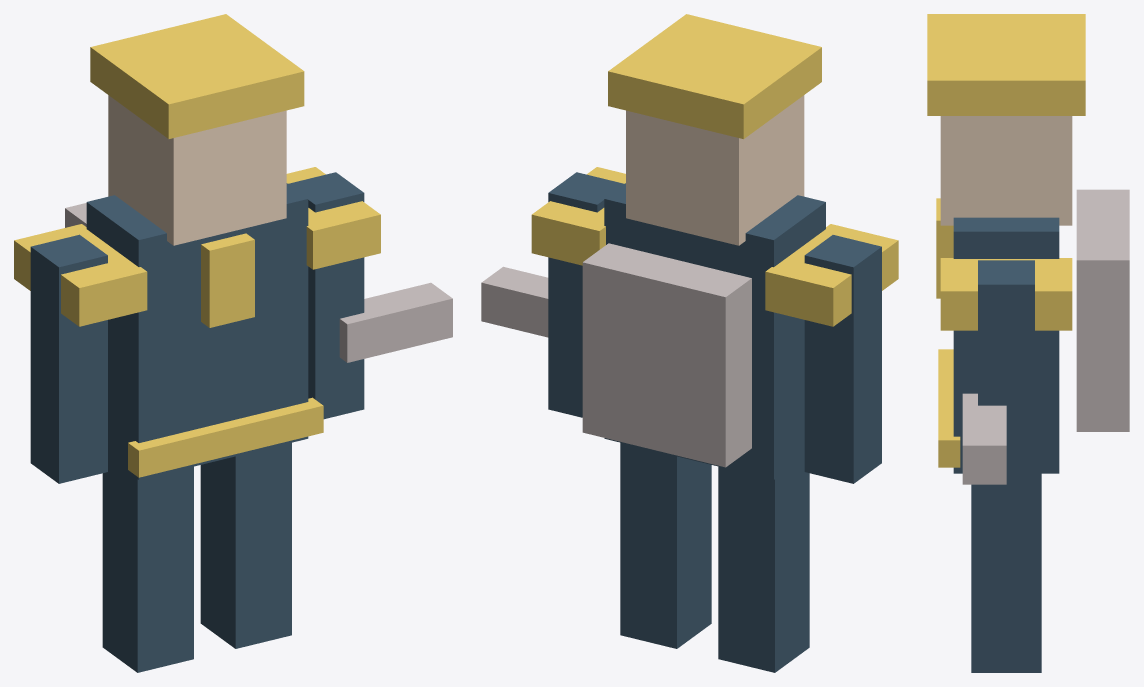
The model's file is 20_vela_spirebound_guide_under_ration.glb.
The picture shows the model from 3 angles, left to right: view 1: azimuth 30°, elevation 25°; view 2: azimuth 150°, elevation 25°; view 3: azimuth 270°, elevation 25°; orthographic projection.
Visible parts, largest first — view 1: Vela Spirebound, Guide under Ration; view 2: Vela Spirebound, Guide under Ration; view 3: Vela Spirebound, Guide under Ration.
Boxes of the visible parts, box(x1,y1,x2,y2) form: Vela Spirebound, Guide under Ration: box(14, 14, 452, 672); Vela Spirebound, Guide under Ration: box(481, 14, 898, 672); Vela Spirebound, Guide under Ration: box(927, 14, 1129, 672).
Size of the model in its own units: 1.06 by 1.53 by 0.4758.
